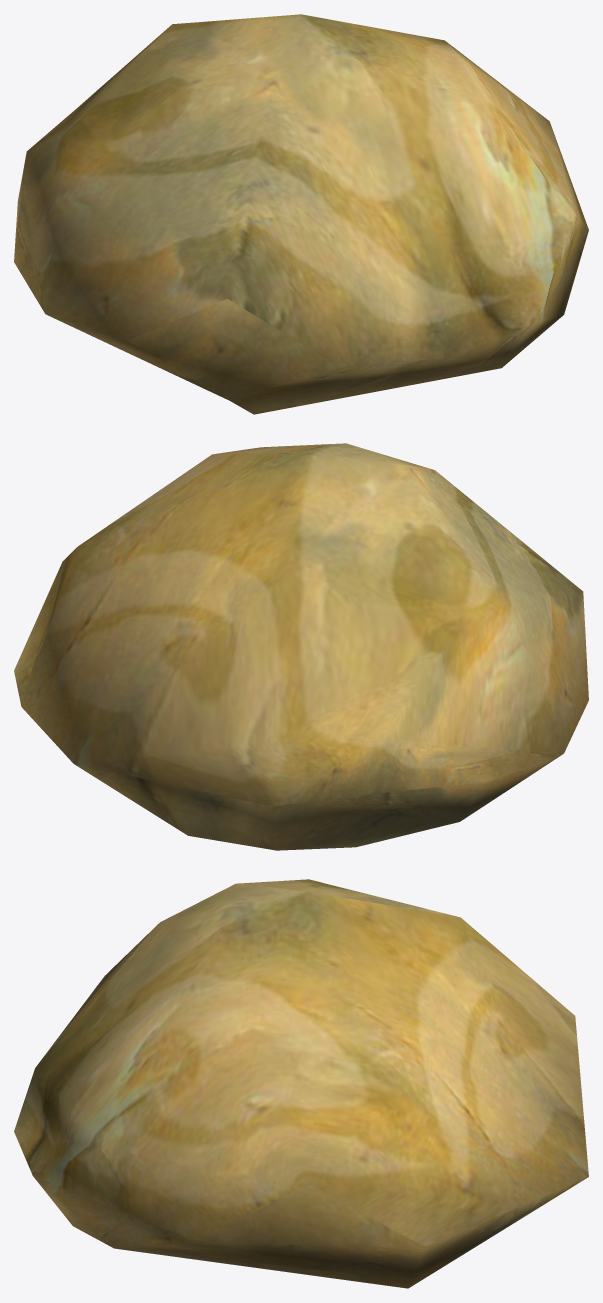
File: rock1.FBX
3 renders of one model, top to bottom at view 1: azimuth 30°, elevation 25°; view 2: azimuth 150°, elevation 25°; view 3: azimuth 270°, elevation 25°, orthographic.
Parts seen in each view (by area): view 1: rock1; view 2: rock1; view 3: rock1.
Boxes of the visible parts, bbox=[...] form: rock1: bbox=[14, 14, 588, 414]; rock1: bbox=[14, 443, 588, 850]; rock1: bbox=[14, 879, 588, 1288].
Size of the model in its own units: 10.73 by 10.46 by 7.11.
